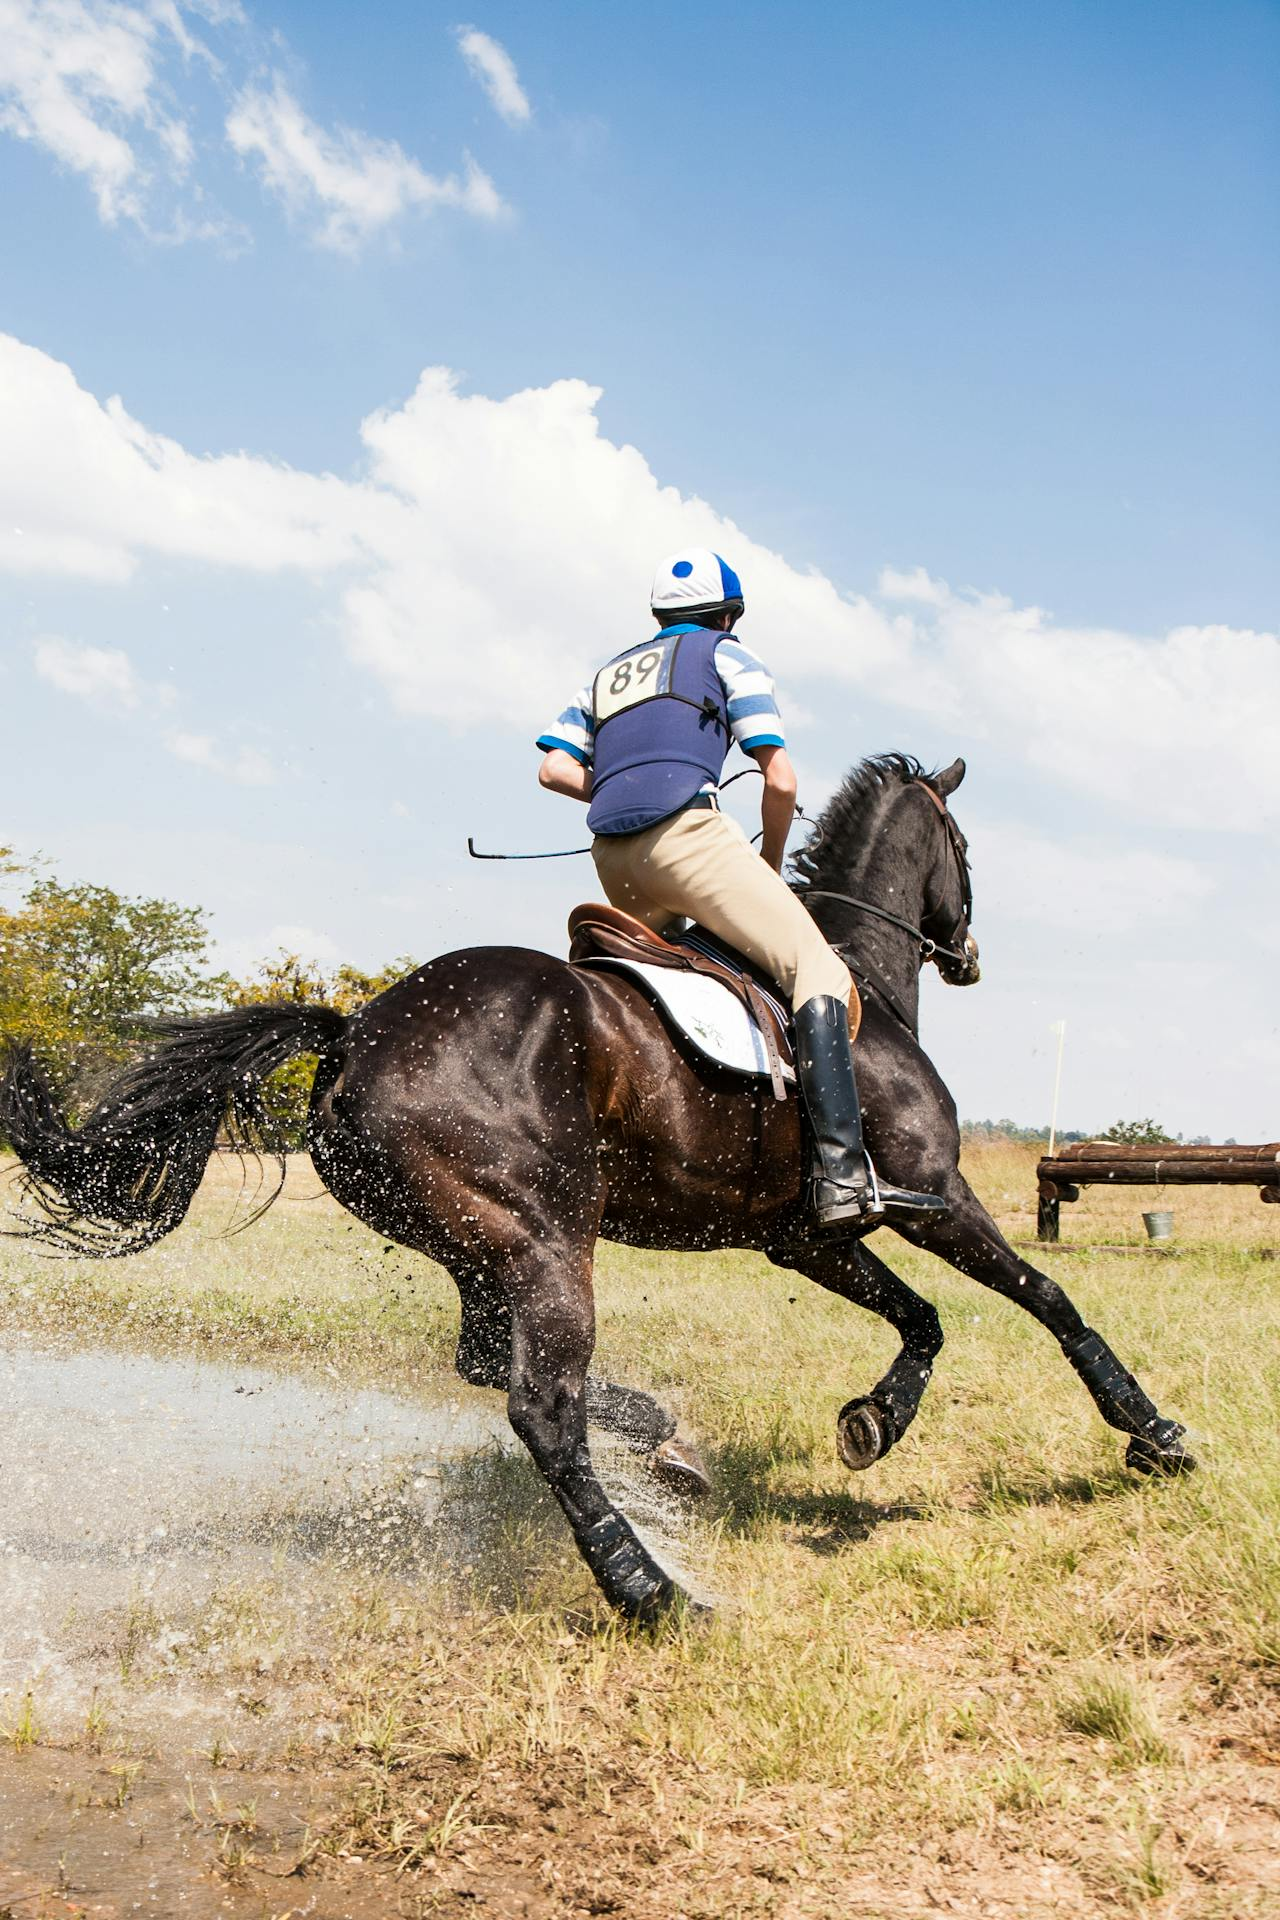horse: (91, 661, 1235, 1632)
person: (518, 486, 889, 1207)
